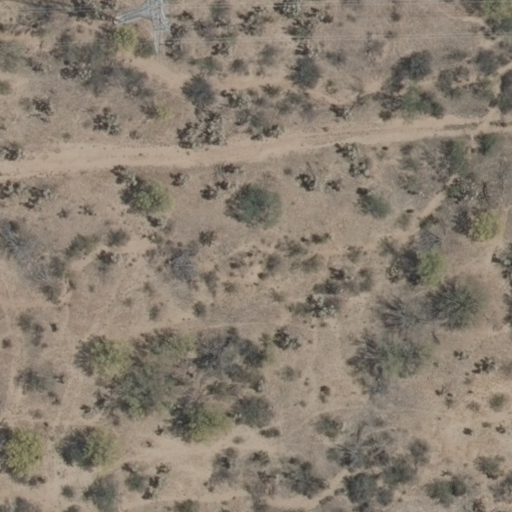TT: (105, 1, 179, 60)
